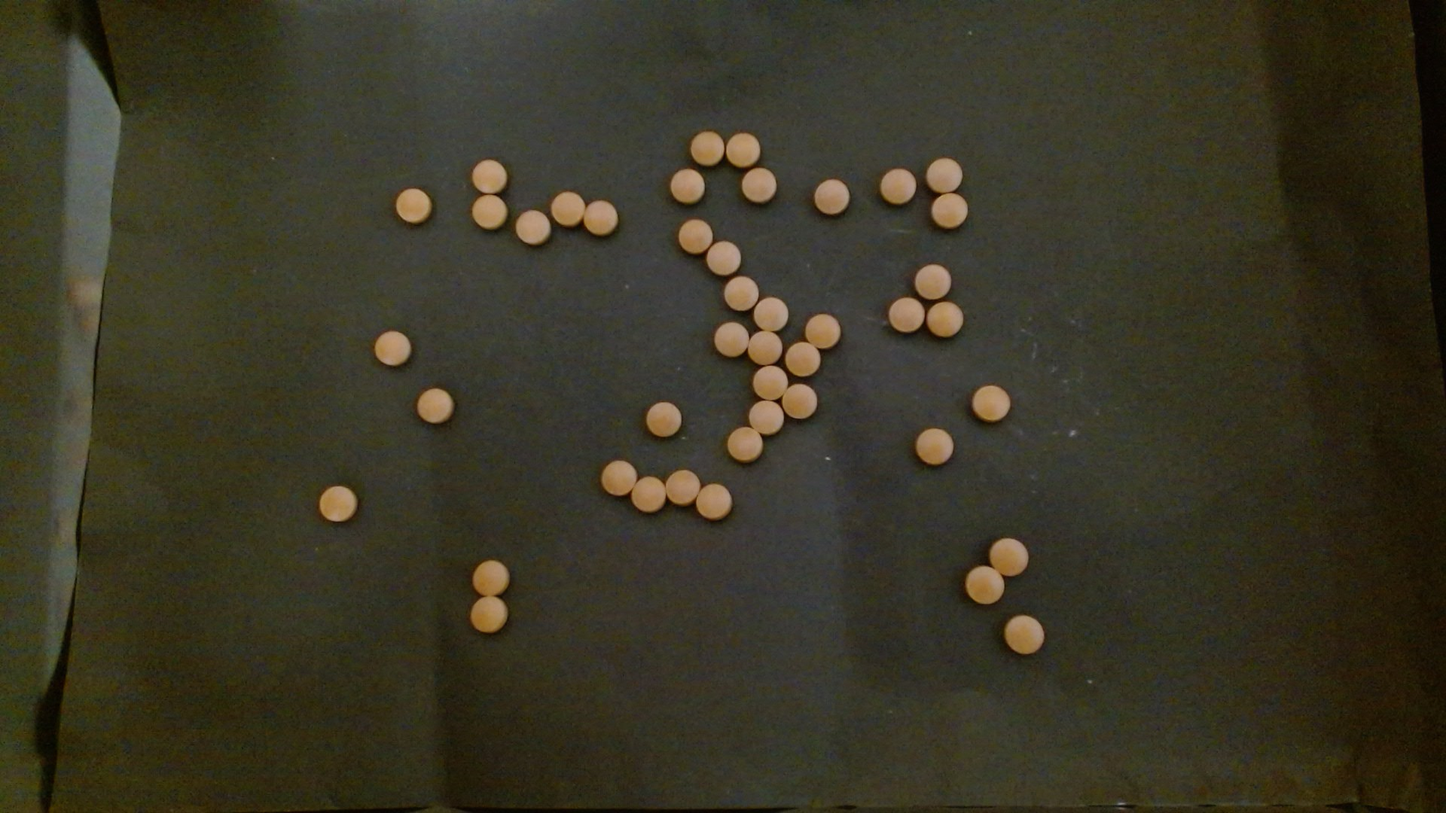Circle: (1002, 613, 1047, 656), (316, 483, 361, 525), (969, 382, 1012, 424), (988, 537, 1028, 577), (965, 566, 1004, 604), (914, 428, 953, 465), (695, 483, 732, 521), (471, 559, 508, 597), (469, 596, 507, 633), (645, 400, 682, 437), (600, 459, 637, 496), (813, 178, 850, 215), (740, 166, 777, 203), (804, 312, 841, 349), (471, 193, 508, 230), (395, 187, 432, 224), (630, 475, 666, 513), (927, 301, 964, 337), (416, 388, 453, 424), (931, 192, 968, 228), (888, 296, 925, 332), (713, 321, 749, 358), (747, 400, 784, 436), (374, 330, 411, 366), (879, 168, 916, 204), (914, 263, 951, 299), (926, 157, 963, 193), (752, 296, 788, 332), (752, 364, 788, 400), (677, 218, 713, 254), (471, 158, 507, 194), (583, 199, 618, 236), (781, 382, 816, 419), (727, 427, 762, 463), (515, 209, 550, 245), (690, 130, 725, 166), (784, 341, 819, 376), (726, 132, 761, 167), (670, 167, 704, 203), (707, 240, 741, 276), (551, 190, 584, 227), (666, 470, 700, 505), (725, 276, 759, 311), (747, 330, 781, 365)
